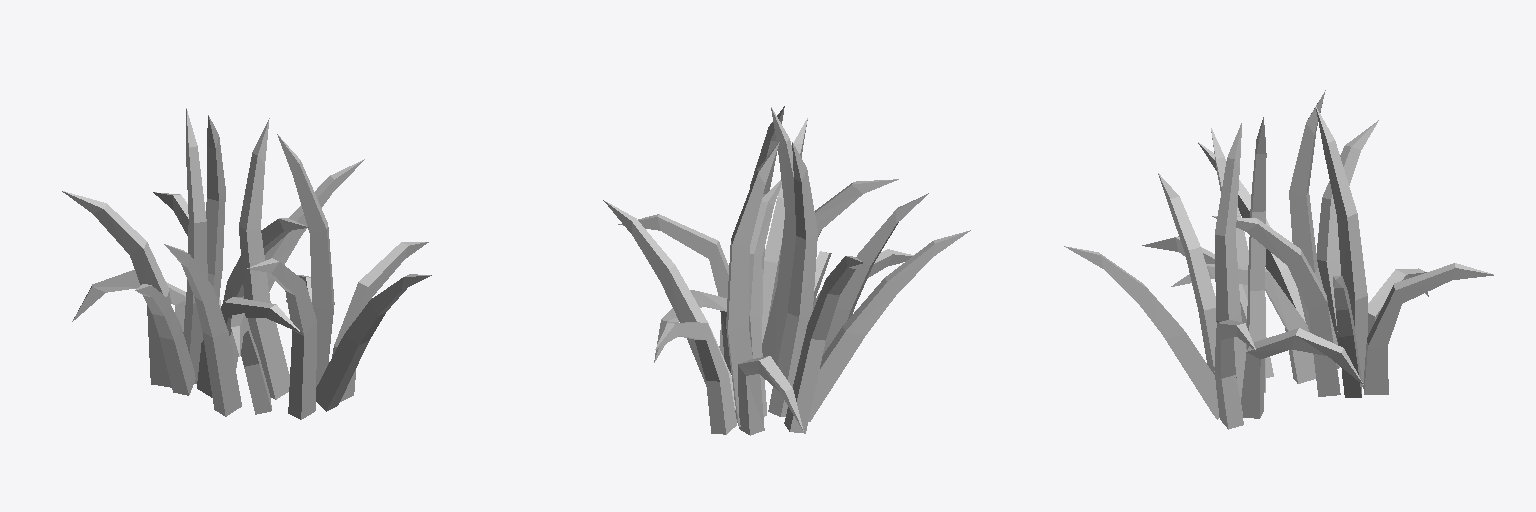
Rendered from grass1_.obj.
The picture shows the model from 3 angles: view 1: azimuth 30°, elevation 25°; view 2: azimuth 150°, elevation 25°; view 3: azimuth 270°, elevation 25°; orthographic projection.
Visible parts, largest first — view 1: Cube.013; view 2: Cube.013; view 3: Cube.013.
Part boxes in pixels (x1,y1,x2,y2): Cube.013: (62,108,431,419); Cube.013: (603,106,970,435); Cube.013: (1064,90,1493,429).
Bounding box in the file's own units: 0.2005 × 0.1686 × 0.2316.